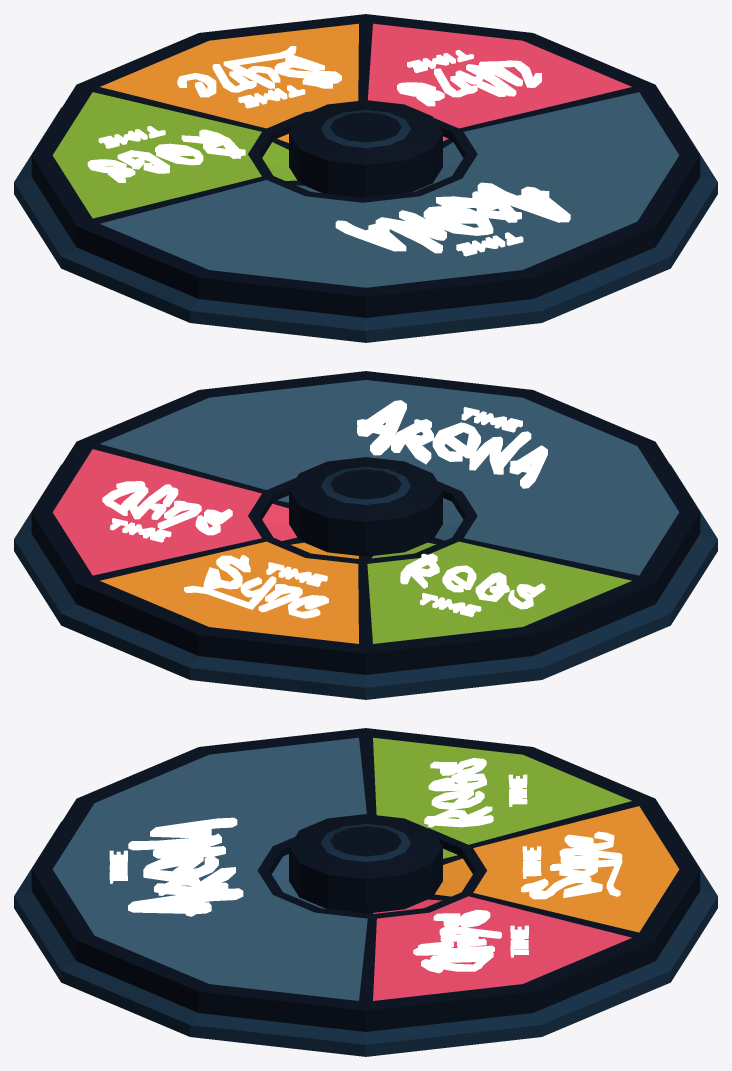
3 renders of one model, top to bottom at view 1: azimuth 30°, elevation 25°; view 2: azimuth 150°, elevation 25°; view 3: azimuth 270°, elevation 25°, orthographic.
Visible parts, largest first — view 1: Circle, Curve.034; view 2: Circle, Curve.034; view 3: Circle, Curve.034.
Part boxes in pixels (bbox=[...]): Circle: bbox=[14, 14, 717, 342]; Curve.034: bbox=[87, 46, 570, 256]; Circle: bbox=[14, 371, 717, 699]; Curve.034: bbox=[102, 400, 547, 618]; Circle: bbox=[14, 728, 717, 1056]; Curve.034: bbox=[109, 758, 622, 973].
Bounding box in the file's own units: 4.43 × 0.4636 × 4.43.
2 materials, 1 textured.
